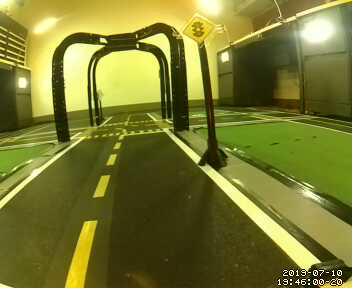Traffic light sign: (183, 13, 214, 44)
